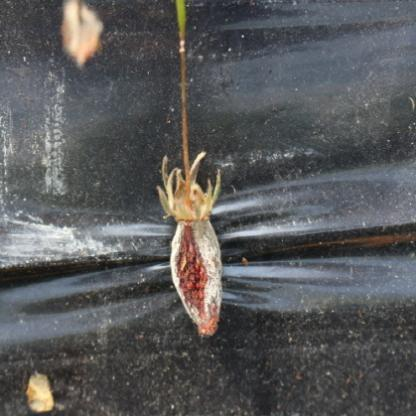Strawberry_Gray_Mold: (158, 151, 222, 337)
